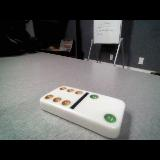domino: (40, 86, 125, 138)
